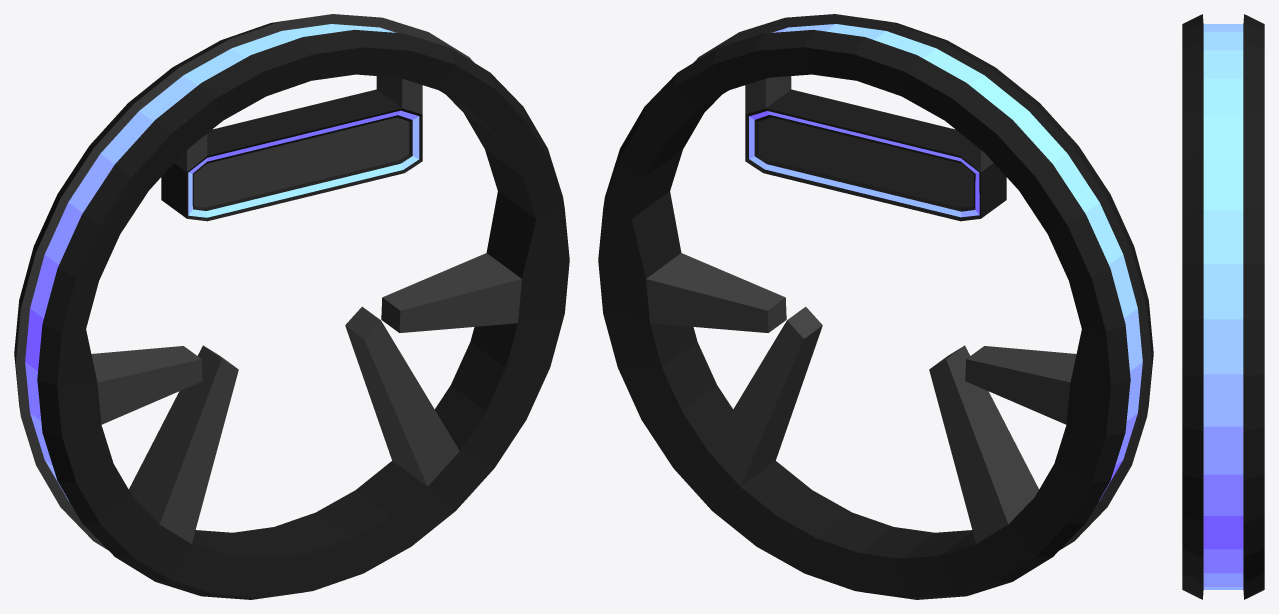
File: CheckPointRing.fbx
3 renders of one model, left to right at view 1: azimuth 30°, elevation 25°; view 2: azimuth 150°, elevation 25°; view 3: azimuth 270°, elevation 25°, orthographic. The views are drawn at different scales.
Parts seen in each view (by area): view 1: CheckPoinRing; view 2: CheckPoinRing; view 3: CheckPoinRing.
Part boxes in pixels (x1=…): CheckPoinRing: x1=14, y1=14, x2=569, y2=599; CheckPoinRing: x1=598, y1=14, x2=1153, y2=599; CheckPoinRing: x1=1182, y1=14, x2=1264, y2=599.
Size of the model in its own units: 4.11 by 29.38 by 29.38.
